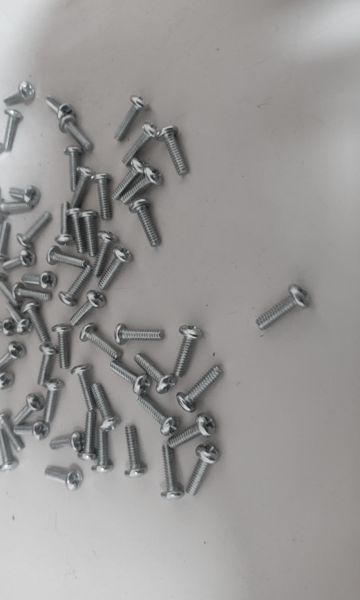shortscrew: (255, 285, 310, 331), (177, 365, 224, 413), (137, 393, 180, 437), (186, 444, 221, 497), (134, 352, 177, 395), (113, 95, 150, 143), (122, 123, 161, 167), (168, 414, 217, 449), (80, 323, 122, 362), (120, 167, 163, 205), (157, 126, 189, 177), (174, 324, 204, 378), (112, 159, 149, 201), (98, 247, 133, 291), (130, 199, 161, 248), (109, 360, 152, 395), (59, 265, 94, 307), (92, 382, 121, 432), (161, 445, 186, 501), (70, 290, 107, 327), (17, 212, 53, 250), (93, 231, 120, 279), (59, 115, 94, 152), (71, 365, 98, 412), (125, 425, 148, 479), (22, 302, 51, 344), (113, 324, 165, 345), (91, 173, 113, 222), (13, 393, 46, 425), (78, 412, 99, 462), (0, 412, 25, 453), (71, 166, 94, 210), (66, 208, 88, 254), (91, 431, 114, 474), (79, 211, 100, 258), (42, 379, 64, 423), (6, 302, 34, 336), (47, 246, 90, 268), (52, 324, 72, 369), (45, 469, 84, 492), (63, 147, 82, 192), (3, 80, 37, 105), (3, 109, 23, 151), (0, 430, 20, 472), (38, 343, 58, 385), (55, 202, 74, 246), (0, 342, 27, 372), (12, 283, 51, 303), (50, 432, 86, 453), (0, 272, 21, 308), (2, 249, 36, 271), (22, 271, 58, 291), (14, 421, 49, 441), (45, 96, 74, 120), (9, 186, 41, 206), (0, 222, 12, 262), (0, 365, 15, 390), (0, 318, 17, 336), (0, 142, 5, 167), (0, 184, 2, 224)
